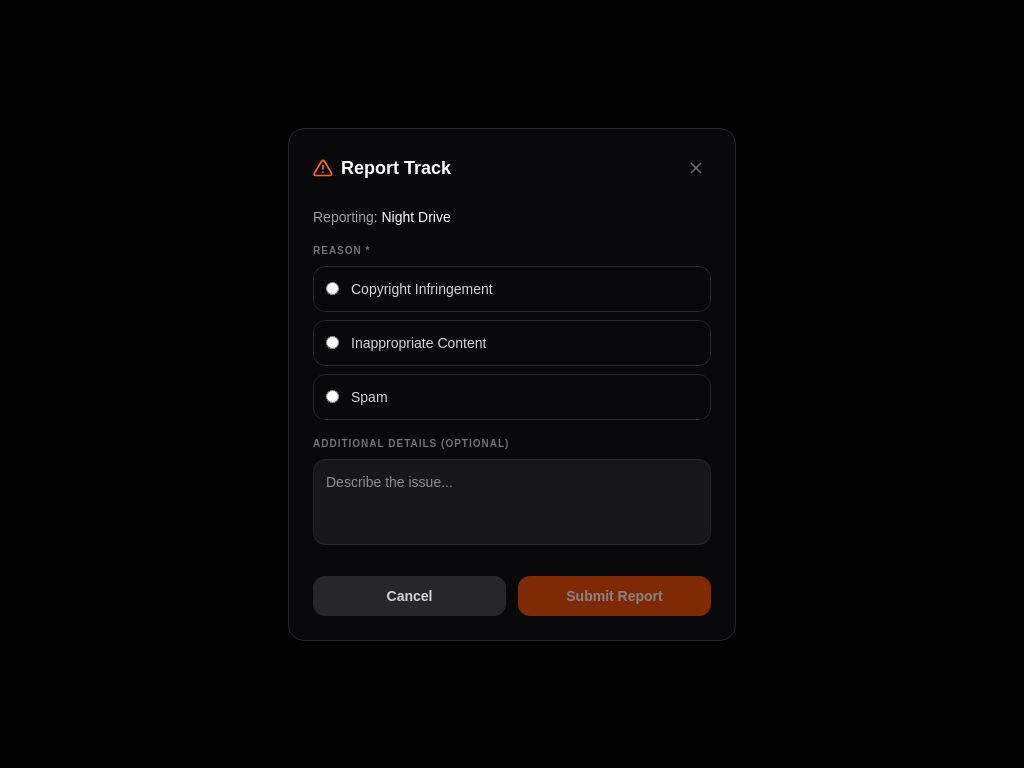
Test: ReportModal › form state › Submit button is enabled after selecting a reason
Click the radio button showing "SPAM": (332, 396) [326, 390, 339, 403]
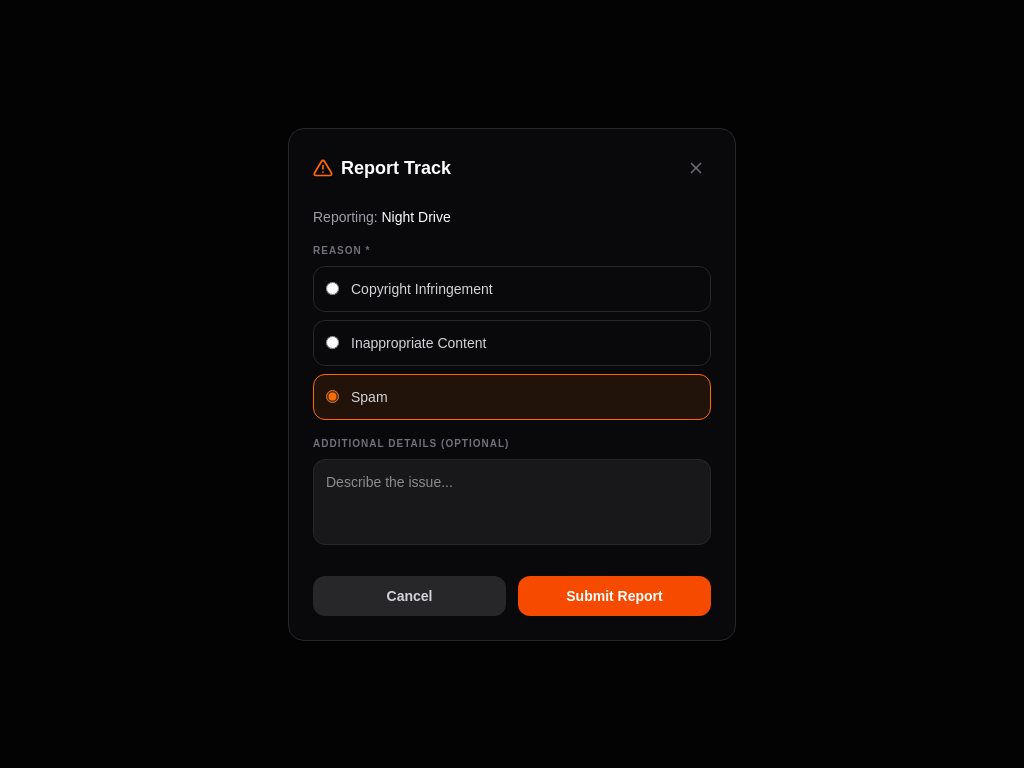
Expected: the button "Submit Report" is enabled, [518, 576, 711, 616]
